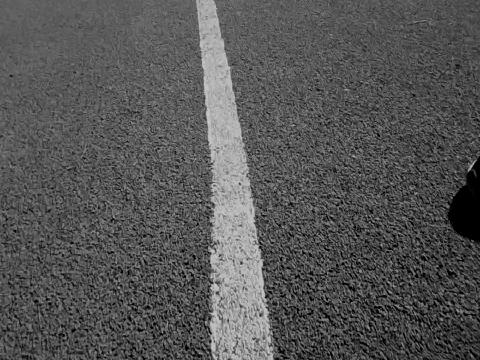Lines: (194, 0, 278, 360)
